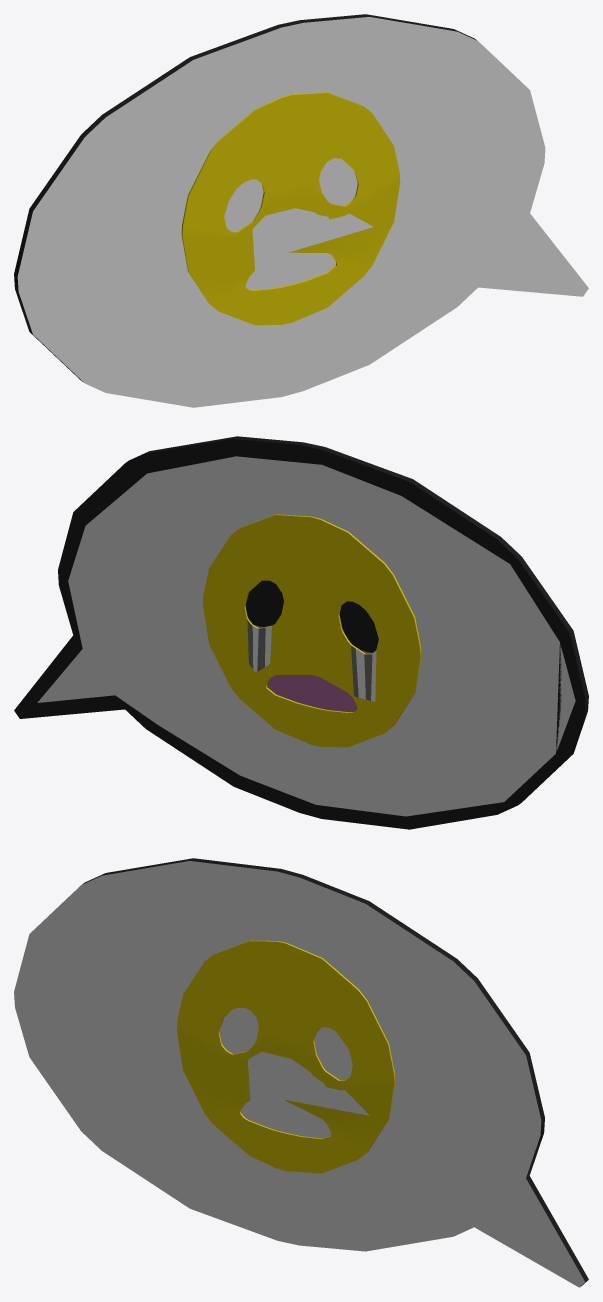
File: pilotbubble.fbx
The picture shows the model from 3 angles, top to bottom: view 1: azimuth 30°, elevation 25°; view 2: azimuth 150°, elevation 25°; view 3: azimuth 330°, elevation 25°; orthographic projection.
Parts seen in each view (by area): view 1: planarTrimmedSurface4; view 2: planarTrimmedSurface4; view 3: planarTrimmedSurface4.
Boxes of the visible parts, x1,y1,x2,y2 form: planarTrimmedSurface4: [14, 14, 588, 407]; planarTrimmedSurface4: [14, 436, 588, 829]; planarTrimmedSurface4: [14, 858, 588, 1287].
Size of the model in its own units: 2.26 by 1.39 by 0.0388.
